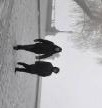person: (12, 38, 63, 60), (13, 59, 59, 79)
